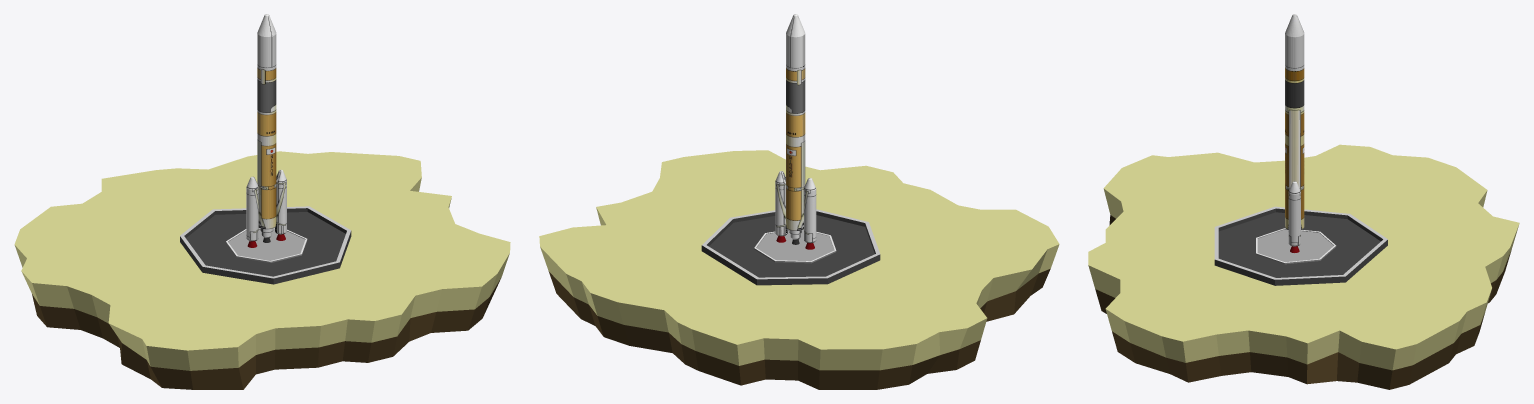
The model's file is H-IIA.gltf.
The picture shows the model from 3 angles, left to right: view 1: azimuth 30°, elevation 25°; view 2: azimuth 150°, elevation 25°; view 3: azimuth 270°, elevation 25°; orthographic projection.
Parts seen in each view (by area): view 1: Cylinder.001, Cylinder.002; view 2: Cylinder.001, Cylinder.002; view 3: Cylinder.001, Cylinder.002.
Boxes of the visible parts, x1,y1,x2,y2 form: Cylinder.001: (14,151,510,389); Cylinder.002: (246,14,286,241); Cylinder.001: (539,150,1059,389); Cylinder.002: (775,14,816,243); Cylinder.001: (1088,144,1519,389); Cylinder.002: (1285,14,1304,246).
Size of the model in its own units: 8.06 by 5.17 by 7.18.
Materials: 11 (1 with a texture image).
